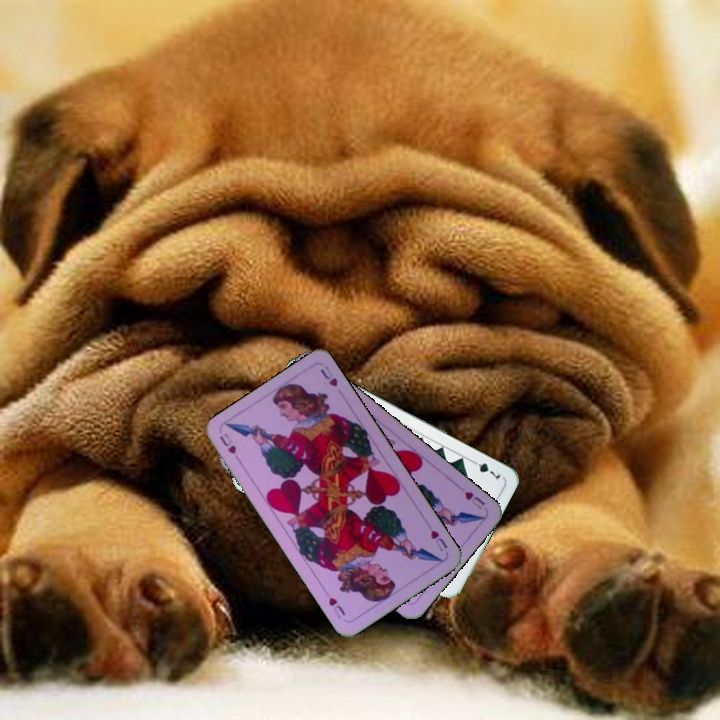G7: (466, 456, 503, 481)
HU: (215, 429, 244, 466), (460, 487, 488, 512), (426, 526, 450, 554)
